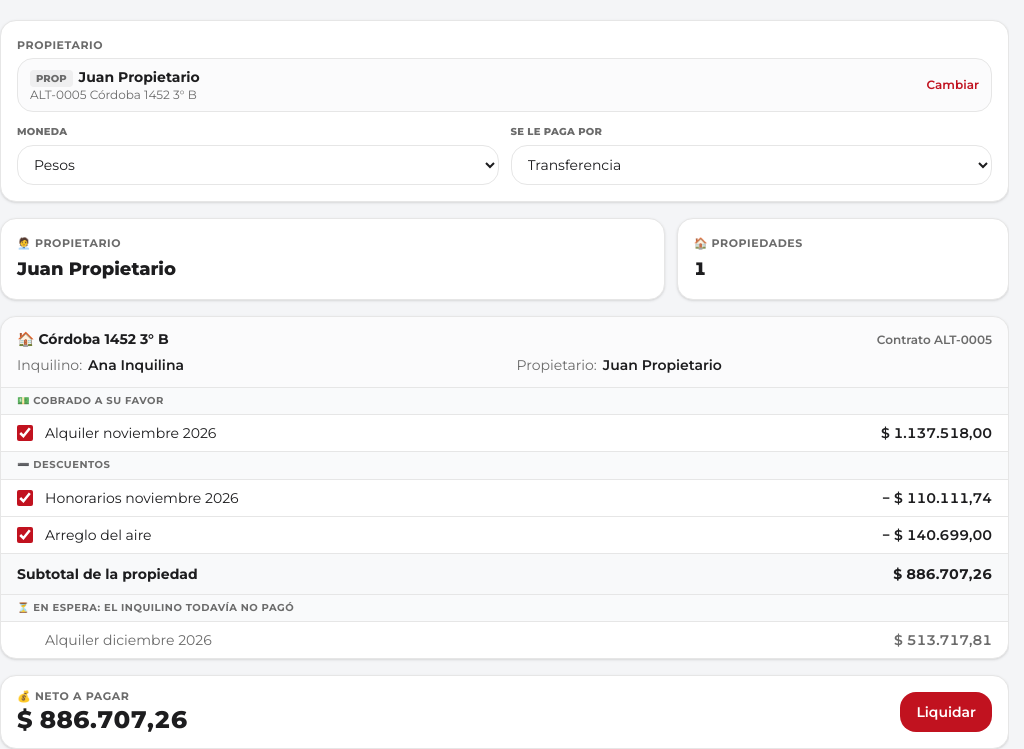
Test: LiquidacionForm › liquida y ofrece el PDF
The image size is (1024, 749).
(page scrolled)
What coordinates should you click on to do the following:
click the button "Liquidar"
I would click on:
 (946, 712)
Its box is top-left (900, 692), bottom-right (992, 732).
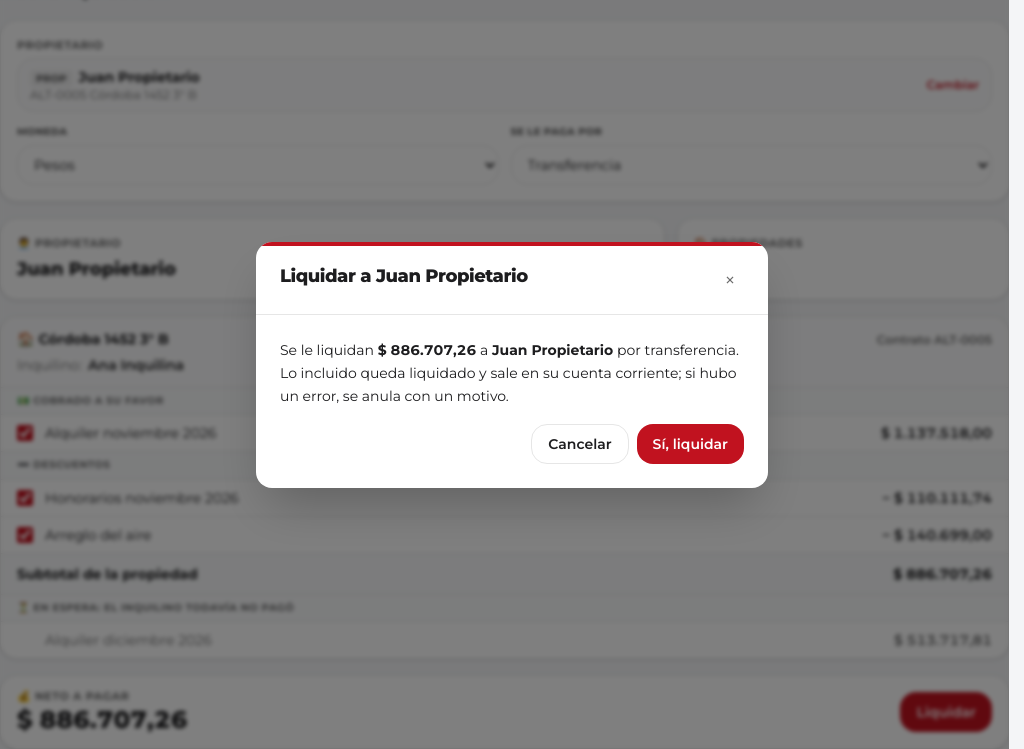
What coordinates should you click on to do the following:
click the button "Sí, liquidar"
I would click on:
 (690, 444)
Its box is top-left (637, 424), bottom-right (744, 464).
(page scrolled)
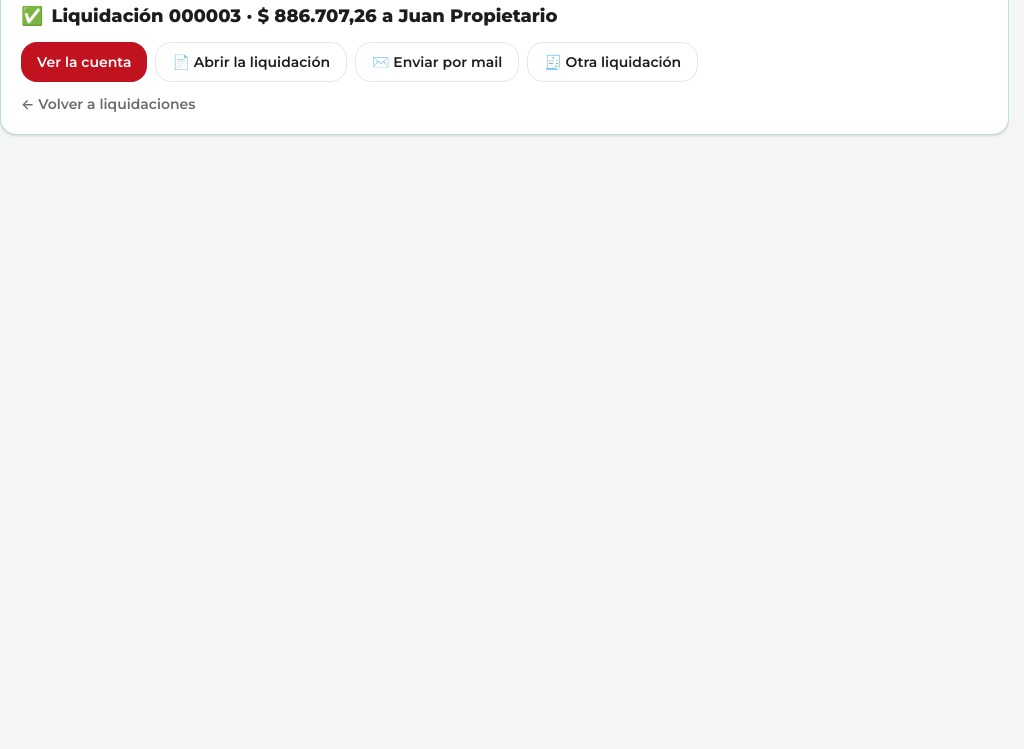
Expected: the message shows "Liquidación 000003 · $ 886.707,26 a Juan Propietario", top-left (52, 5), bottom-right (558, 27)
Expected: the button "📄 Abrir la liquidación" is shown, top-left (155, 42), bottom-right (347, 82)
